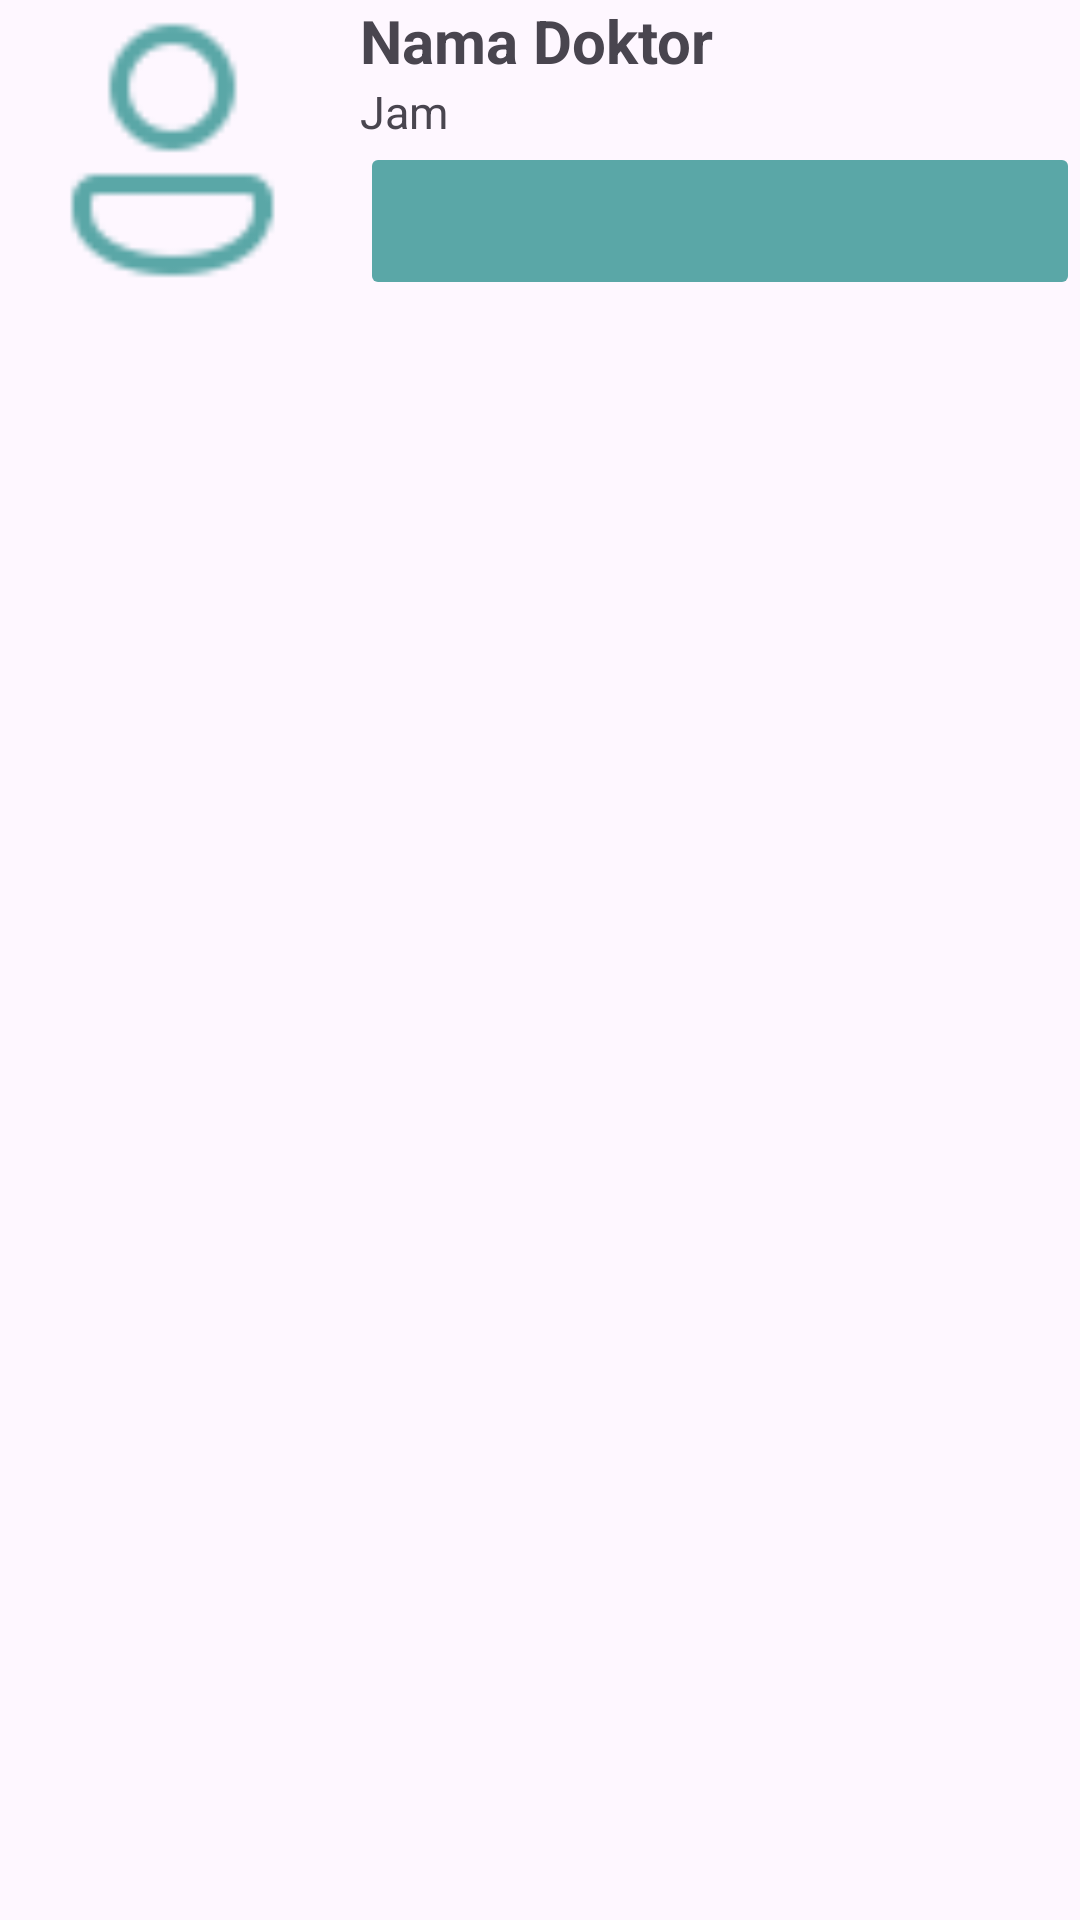

Icon click points for this 1080x1920 phone screenshot, format (x=x, y=y):
profile: (x=172, y=150)
